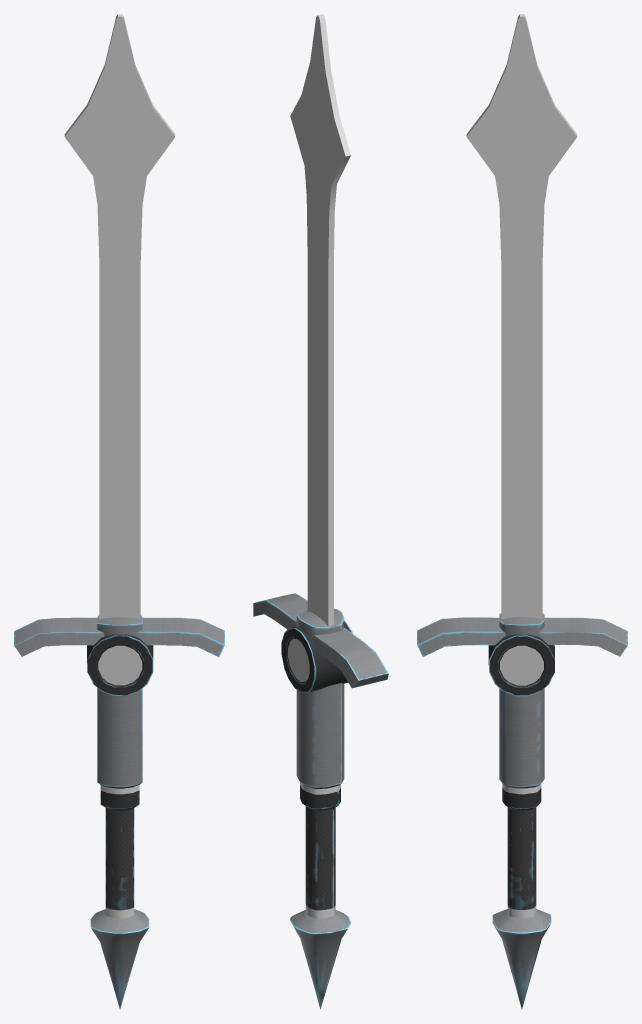
The model's file is Sword.fbx.
3 views of the same model, side by side, from view 1: azimuth 90°, elevation 25°; view 2: azimuth 210°, elevation 25°; view 3: azimuth 270°, elevation 25° (orthographic).
Visible parts, largest first — view 1: Sword; view 2: Sword; view 3: Sword.
Boxes of the visible parts, left/top/right/bottom form: Sword: left=14, top=14, right=224, bottom=1009; Sword: left=253, top=14, right=388, bottom=1009; Sword: left=417, top=14, right=627, bottom=1009.
Bounding box in the file's own units: 13.95 × 260 × 49.95.
